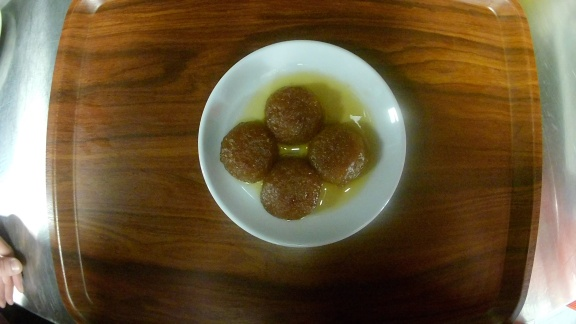kemalpasa: (197, 40, 409, 246)
